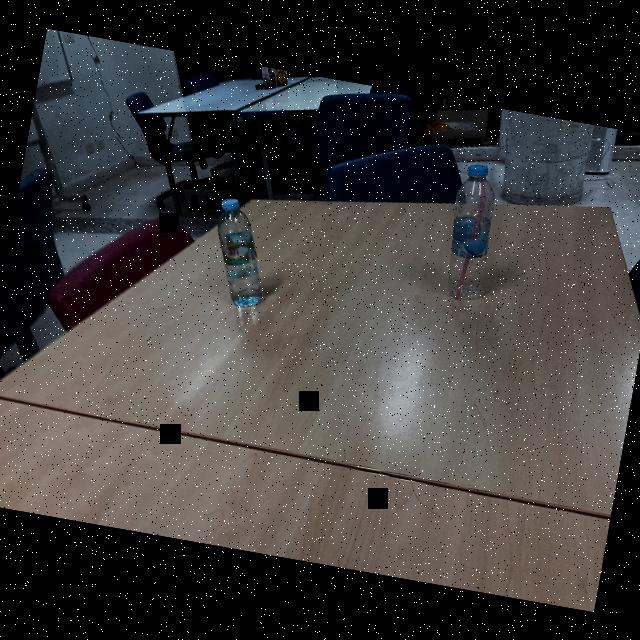plastic_bottle: (436, 160, 506, 306), (204, 195, 278, 312)
